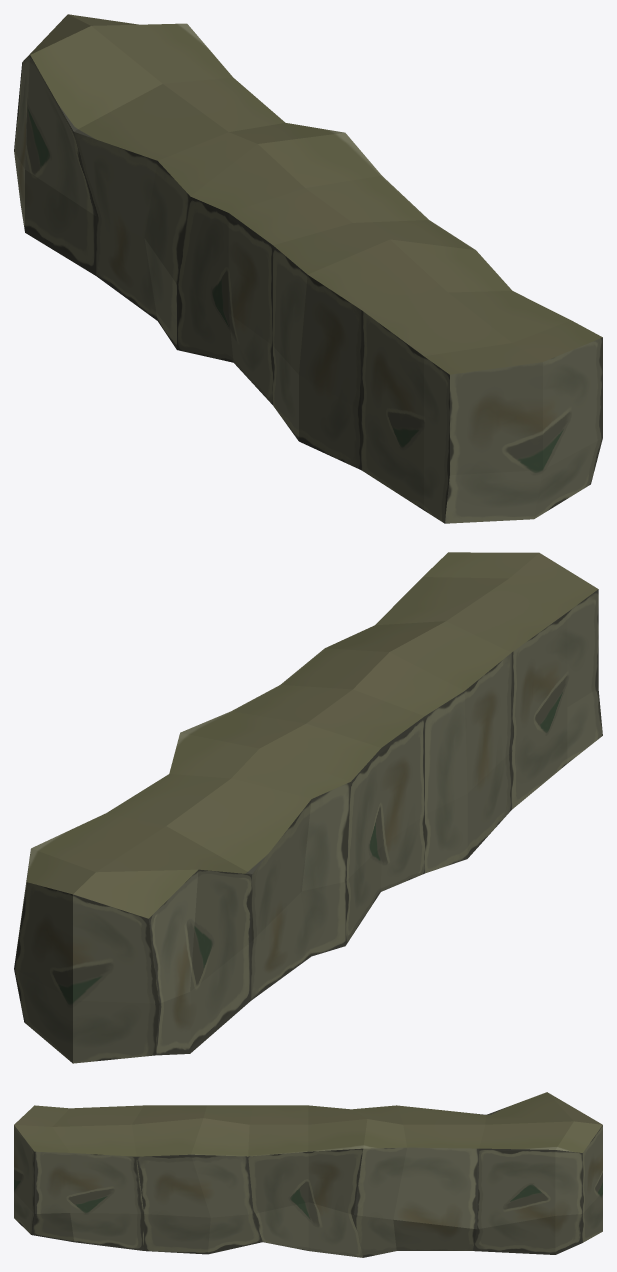
File: rockLine.fbx
3 renders of one model, top to bottom at view 1: azimuth 30°, elevation 25°; view 2: azimuth 150°, elevation 25°; view 3: azimuth 270°, elevation 25°, orthographic. The views are drawn at different scales.
Parts seen in each view (by area): view 1: Cube; view 2: Cube; view 3: Cube.
Part boxes in pixels (box(x1,y1,x2,y2)): Cube: box(14, 14, 602, 523); Cube: box(14, 552, 602, 1063); Cube: box(14, 1092, 602, 1257).
Size of the model in its own units: 228 by 242 by 1075.
Materials: 1 (1 with a texture image).
